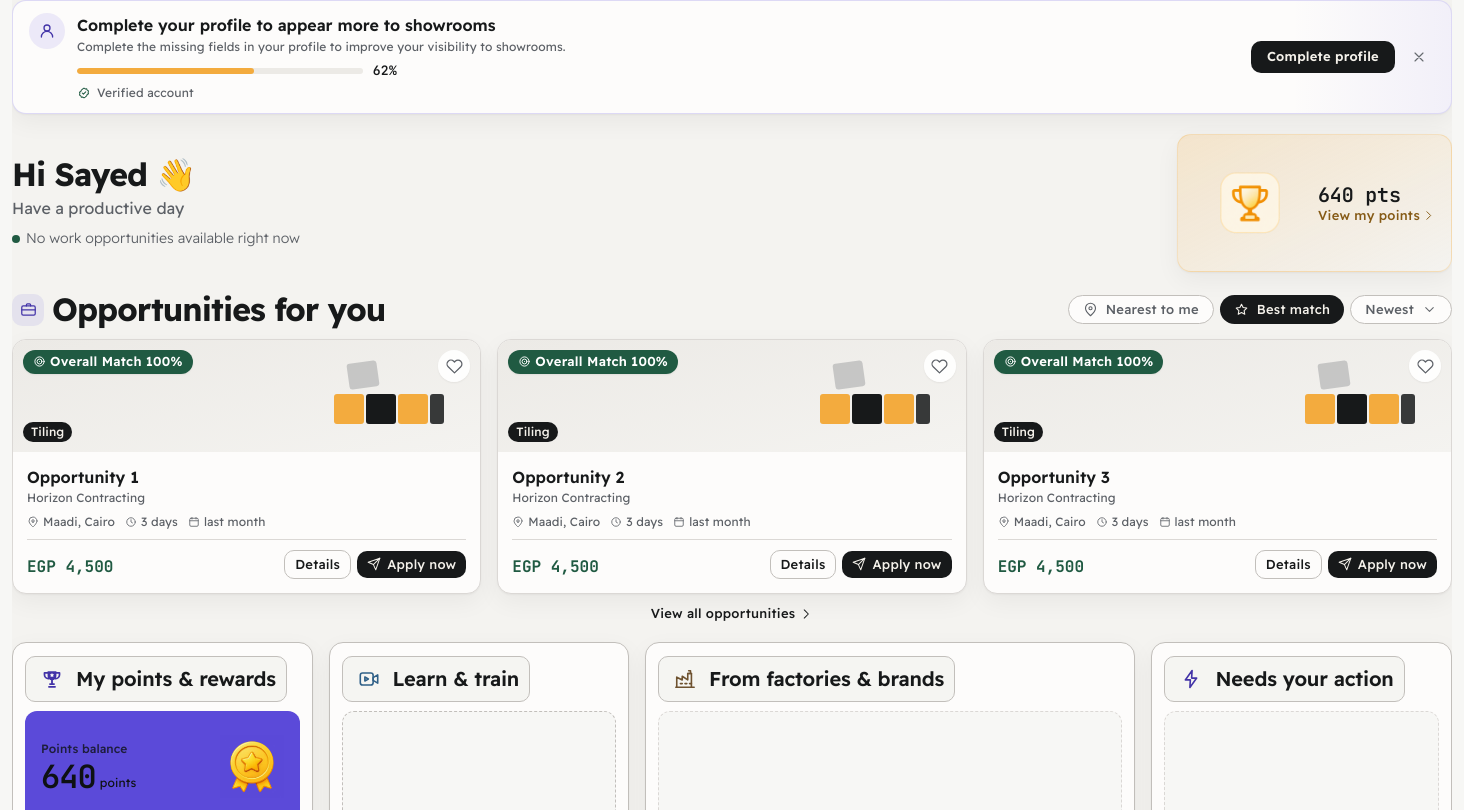
installer dashboard — the quick filters are real database orderings › the date menu offers the two real publication orders — Newest and Oldest — and asks for them
Click the button with aria-label "Sort by date".
click(1401, 310)  # box [1350,295,1452,324]
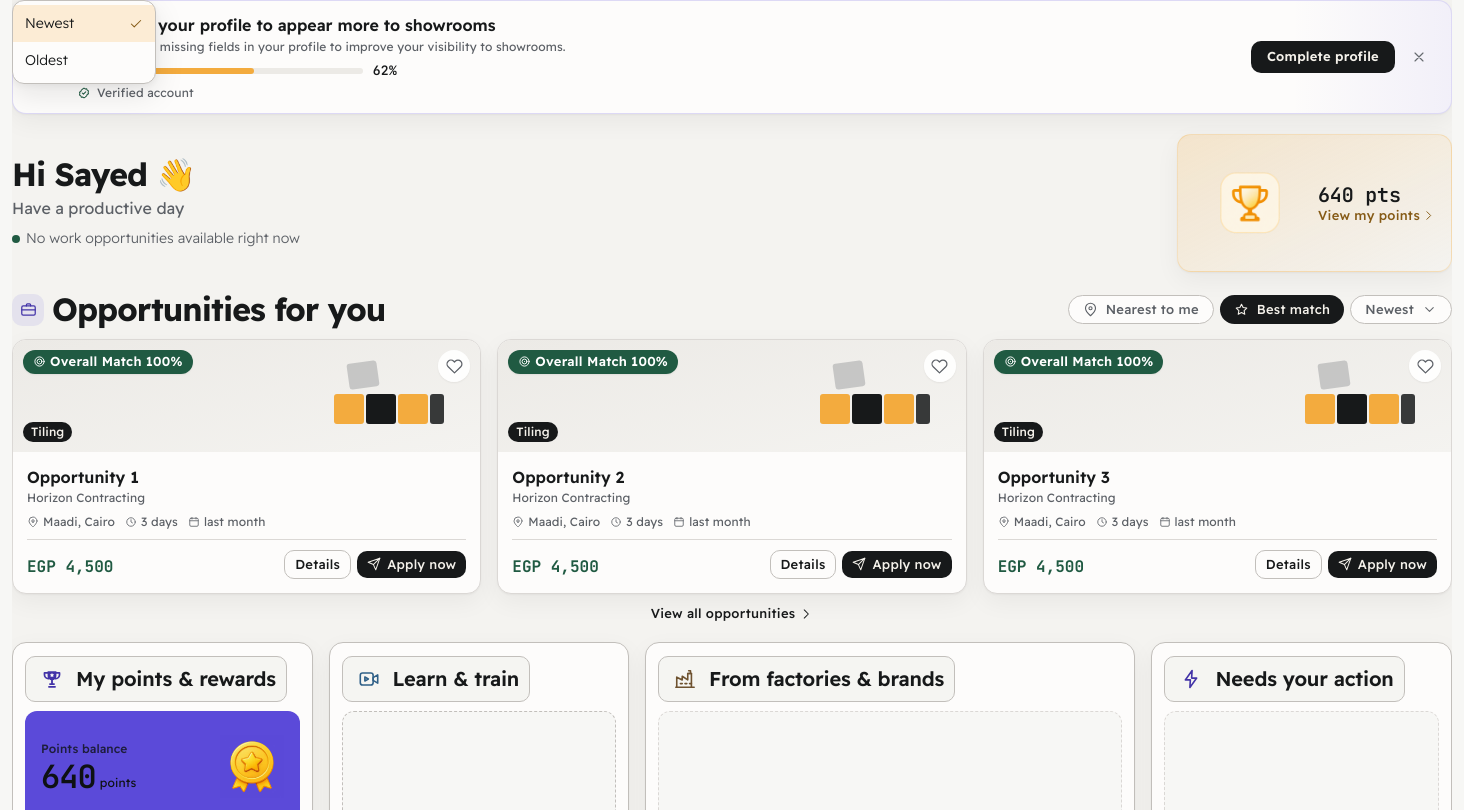
Click the menu item "Oldest".
click(84, 60)  # box [13,42,155,79]
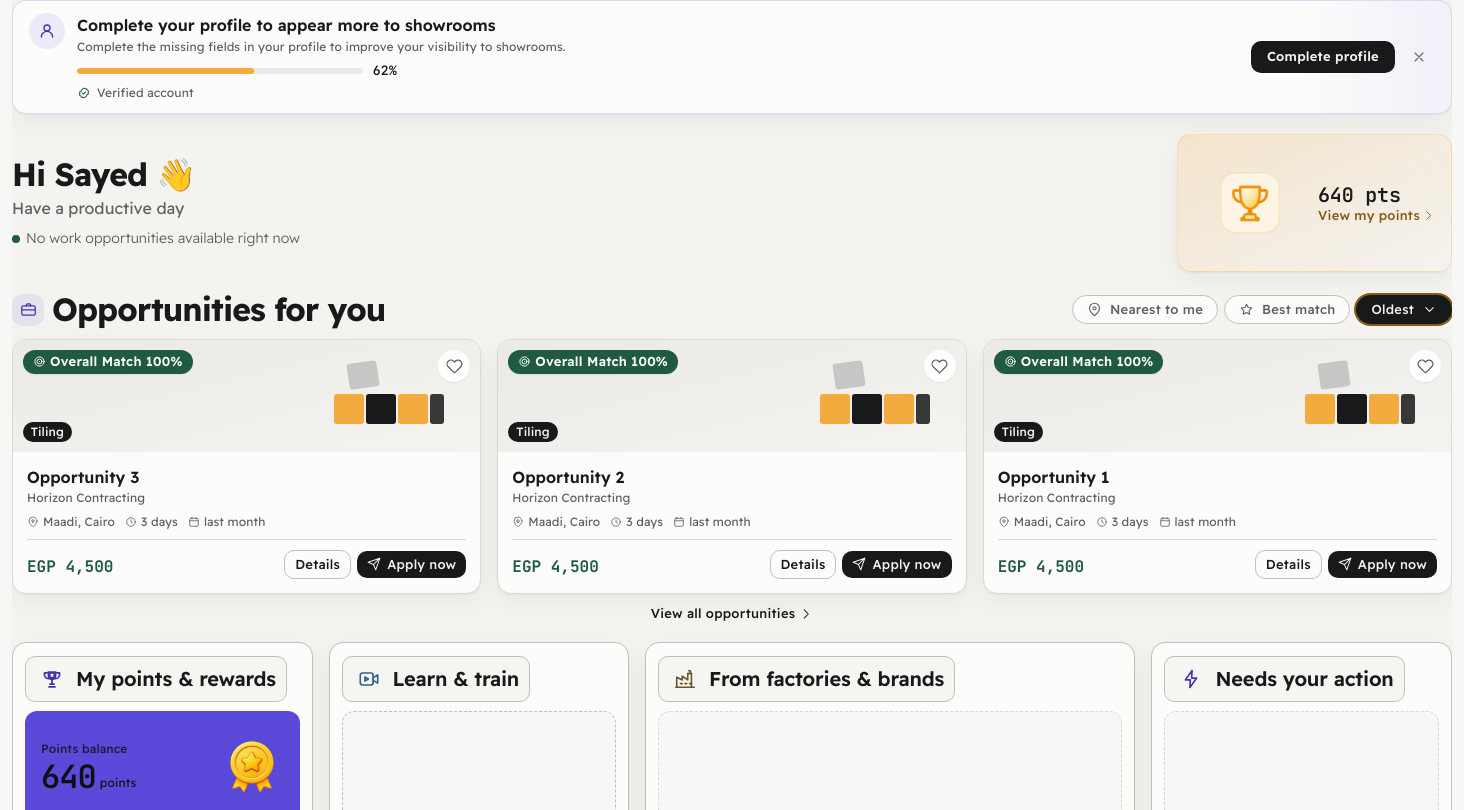
expect the button with aria-label "Sort by date" reads "Oldest": met, box [1356,295,1452,324]
